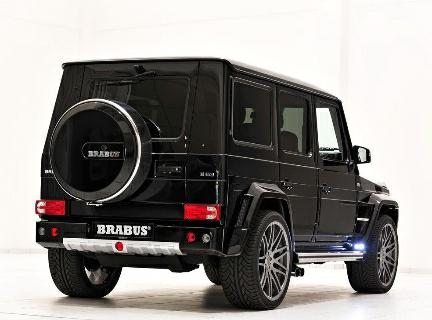巴博斯-G级: (34, 54, 408, 310)
